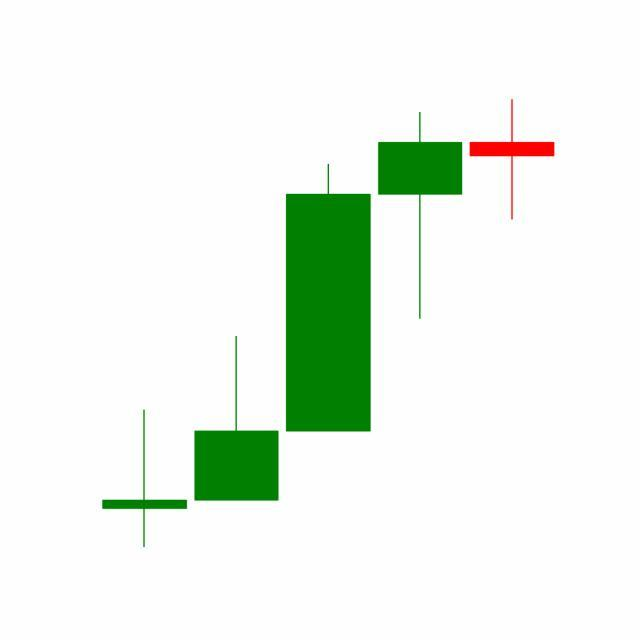Spinning Top: (466, 99, 559, 223)
